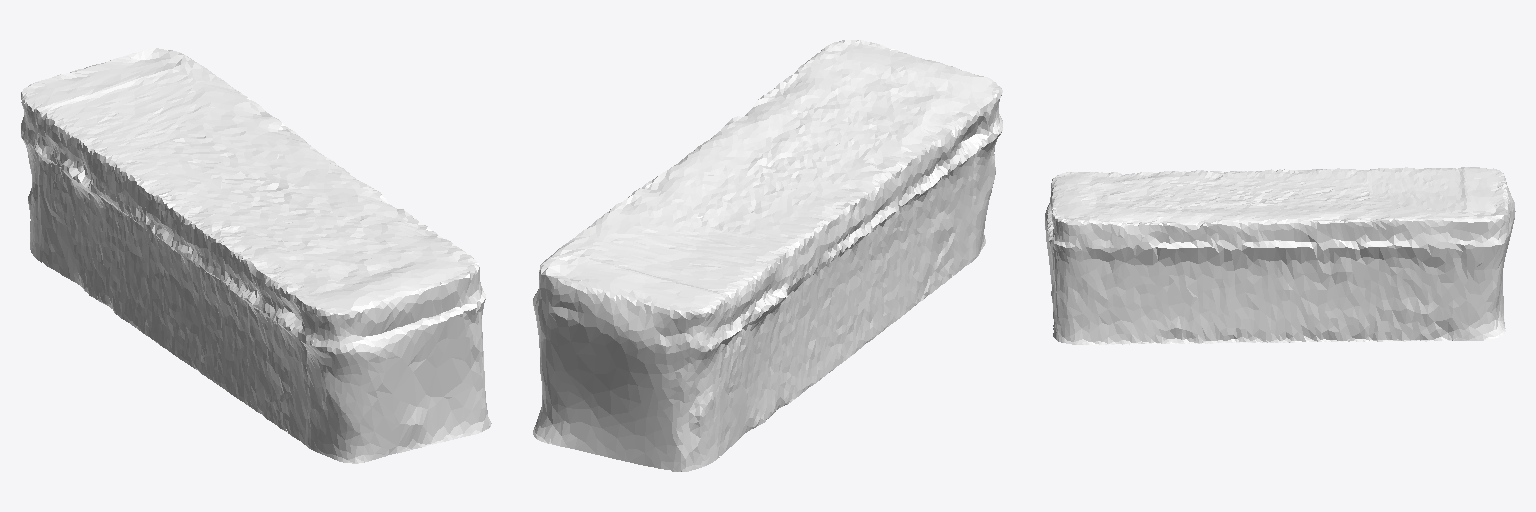
robot.urdf — chewinggum:
<?xml version="1.0" ?>
<robot name="chewinggum">
 <link name="baseLink">
   <contact>
     <lateral_friction value="0.5"/>
   </contact>
   <inertial>
     <origin rpy="0 0 0" xyz="0.00626 0.001423 -0.005272"/>
      <mass value="1.0"/>
      <inertia ixx="0.000001" ixy="0.000000" ixz="0.000000" iyy="0.000000" iyz="-0.000000" izz="0.000001"/>
   </inertial>
   <visual>
     <origin rpy="0 0 0" xyz="0 0 0"/>
     <geometry>
       <mesh filename="chewinggum.obj" scale="1.0 1.0 1.0"/>
     </geometry>
      <material name="white">
       <color rgba="1 1 1 1"/>
     </material>
   </visual>
   <collision>
     <origin rpy="0 0 0" xyz="0 0 0"/>
     <geometry>
       <mesh filename="chewinggum_vhacd2.obj" scale="1.0 1.0 1.0"/>
     </geometry>
   </collision>
 </link>
</robot>

--- Facts derived from the render (not from the file) ---
3 views of the same robot in one strip: view 1: azimuth 30°, elevation 25°; view 2: azimuth 150°, elevation 25°; view 3: azimuth 270°, elevation 25° (orthographic).
Robot: chewinggum — 1 links, 0 joints (none); root link baseLink; default pose: all joints at 0.
Visible links, largest first — view 1: baseLink; view 2: baseLink; view 3: baseLink.
Boxes of the visible links, <box> form: baseLink: <box>21,48,491,463</box>; baseLink: <box>533,40,1002,471</box>; baseLink: <box>1045,167,1515,344</box>.
Bounding box of the posed robot: 0.0583 × 0.1722 × 0.0479 m (x, y, z).
1 mesh visuals loaded from 1 distinct referenced files (1 OBJ).